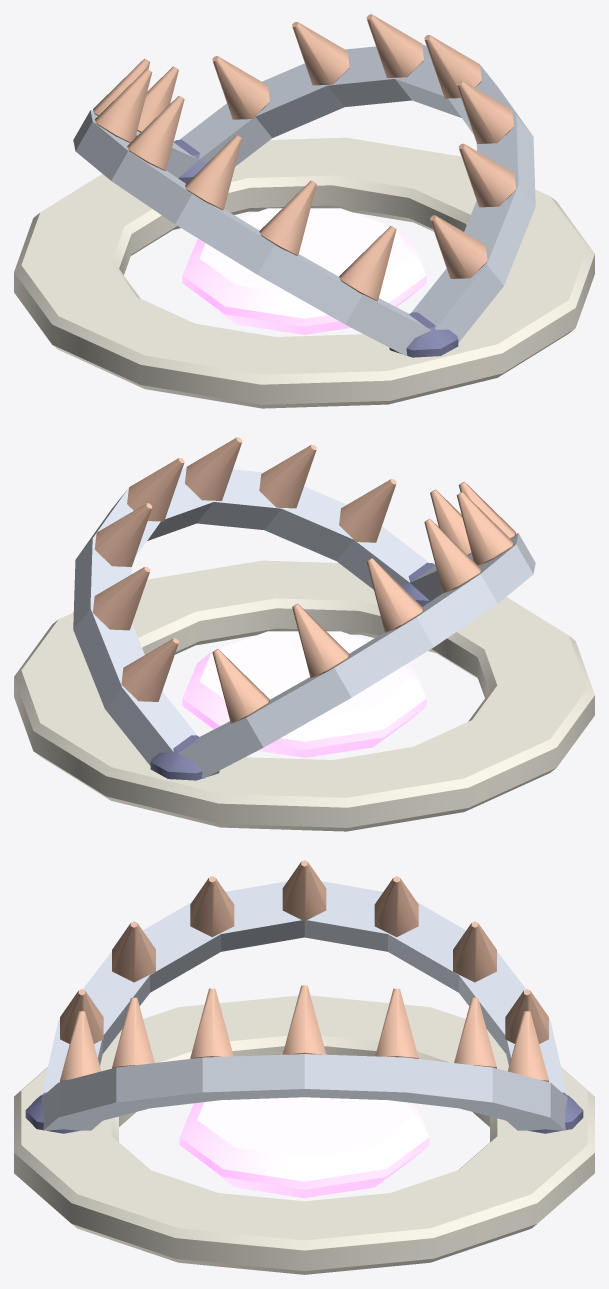
Rendered from R4D_SnareTrap_LOD1.fbx.
3 views of the same model, one above another, from view 1: azimuth 30°, elevation 25°; view 2: azimuth 150°, elevation 25°; view 3: azimuth 270°, elevation 25° (orthographic). The views are drawn at different scales.
Visible parts, largest first — view 1: R4D_SnareTrap_LOD1; view 2: R4D_SnareTrap_LOD1; view 3: R4D_SnareTrap_LOD1.
Part boxes in pixels (<box>): R4D_SnareTrap_LOD1: <box>14,14,594,408</box>; R4D_SnareTrap_LOD1: <box>14,437,594,831</box>; R4D_SnareTrap_LOD1: <box>14,860,594,1274</box>.
Size of the model in its own units: 0.47 by 0.1997 by 0.4582.
